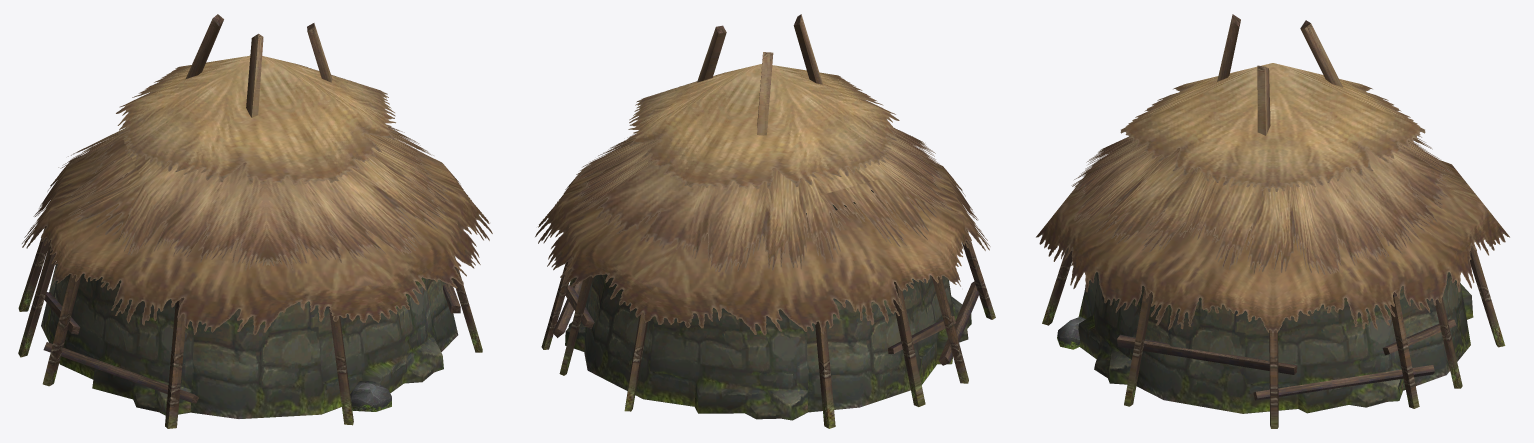
Rendered from xzl_liangcang01_jgc.FBX.
3 views of the same model, side by side, from view 1: azimuth 30°, elevation 25°; view 2: azimuth 150°, elevation 25°; view 3: azimuth 270°, elevation 25° (orthographic). The views are drawn at different scales.
Parts seen in each view (by area): view 1: xzl_liangcang01_jgc; view 2: xzl_liangcang01_jgc; view 3: xzl_liangcang01_jgc.
Part boxes in pixels (x1,y1,x2,y2): xzl_liangcang01_jgc: (18, 14, 492, 428); xzl_liangcang01_jgc: (535, 14, 995, 428); xzl_liangcang01_jgc: (1036, 14, 1509, 428).
Bounding box in the file's own units: 555 × 396 × 569.
